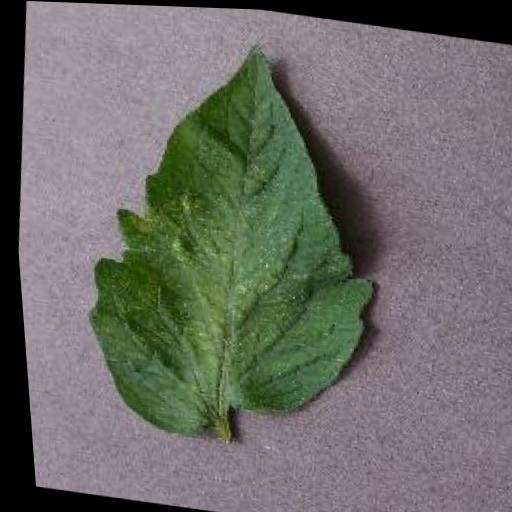Spider Mites: (52, 16, 404, 460)
